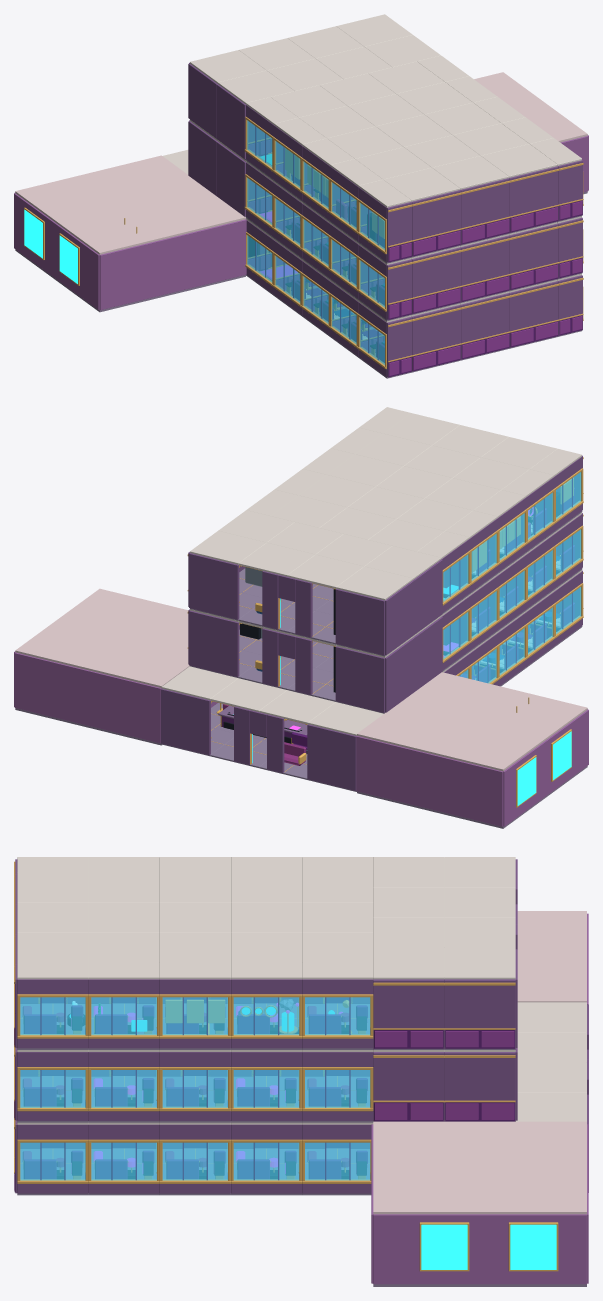
Rendered from grand_disaster_polished_hotel.glb.
3 views of the same model, one above another, from view 1: azimuth 30°, elevation 25°; view 2: azimuth 150°, elevation 25°; view 3: azimuth 270°, elevation 25° (orthographic). The views are drawn at different scales.
Visible parts, largest first — view 1: STATIC_FLOOR_3_MAT_WarmIvory, PUBLIC_WING_ARCHITECTURE_STATIC, STATIC_FLOOR_3_MAT_Wall_Plum, STATIC_FLOOR_2_MAT_Wall_Plum, STATIC_FLOOR_1_MAT_Wall_Plum, STATIC_FLOOR_3_MAT_WarmGold, STATIC_FLOOR_2_MAT_NeonWindowGlass, STATIC_FLOOR_1_MAT_NeonWindowGlass, STATIC_FLOOR_3_MAT_NeonWindowGlass, STATIC_FLOOR_1_MAT_Plum_Lacquer, STATIC_FLOOR_2_MAT_Plum_Lacquer, STATIC_FLOOR_2_MAT_WarmGold (+9 smaller); view 2: PUBLIC_WING_ARCHITECTURE_STATIC, STATIC_FLOOR_3_MAT_WarmIvory, STATIC_FLOOR_3_MAT_Wall_Plum, STATIC_FLOOR_2_MAT_Wall_Plum, STATIC_FLOOR_1_MAT_Wall_Plum, STATIC_FLOOR_2_MAT_WarmIvory, STATIC_FLOOR_3_MAT_NeonWindowGlass, STATIC_FLOOR_2_MAT_NeonWindowGlass, STATIC_FLOOR_3_MAT_PolishedPurpleStone, STATIC_FLOOR_2_MAT_PolishedPurpleStone, STATIC_FLOOR_1_MAT_NeonWindowGlass, STATIC_FLOOR_3_MAT_WarmGold (+4 smaller); view 3: STATIC_FLOOR_3_MAT_WarmIvory, PUBLIC_WING_ARCHITECTURE_STATIC, STATIC_FLOOR_3_MAT_Wall_Plum, STATIC_FLOOR_2_MAT_Wall_Plum, STATIC_FLOOR_1_MAT_NeonWindowGlass, STATIC_FLOOR_2_MAT_NeonWindowGlass, STATIC_FLOOR_3_MAT_NeonWindowGlass, STATIC_FLOOR_2_MAT_WarmIvory, STATIC_FLOOR_3_MAT_WarmGold, STATIC_FLOOR_1_MAT_Wall_Plum, STATIC_FLOOR_2_MAT_WarmGold, STATIC_FLOOR_1_MAT_PolishedPurpleStone (+24 smaller).
Part boxes in pixels (x1=…): STATIC_FLOOR_3_MAT_WarmIvory: x1=190, y1=14, x2=581, y2=264; PUBLIC_WING_ARCHITECTURE_STATIC: x1=14, y1=72, x2=588, y2=312; STATIC_FLOOR_3_MAT_Wall_Plum: x1=188, y1=62, x2=582, y2=276; STATIC_FLOOR_2_MAT_Wall_Plum: x1=188, y1=120, x2=582, y2=334; STATIC_FLOOR_1_MAT_Wall_Plum: x1=246, y1=254, x2=582, y2=377; STATIC_FLOOR_3_MAT_WarmGold: x1=244, y1=116, x2=583, y2=278; STATIC_FLOOR_2_MAT_NeonWindowGlass: x1=247, y1=178, x2=384, y2=307; STATIC_FLOOR_1_MAT_NeonWindowGlass: x1=247, y1=235, x2=384, y2=364; STATIC_FLOOR_3_MAT_NeonWindowGlass: x1=247, y1=120, x2=384, y2=250; STATIC_FLOOR_1_MAT_Plum_Lacquer: x1=248, y1=255, x2=582, y2=375; STATIC_FLOOR_2_MAT_Plum_Lacquer: x1=248, y1=197, x2=582, y2=318; STATIC_FLOOR_2_MAT_WarmGold: x1=244, y1=174, x2=583, y2=336; PUBLIC_WING_ARCHITECTURE_STATIC: x1=14, y1=588, x2=588, y2=828; STATIC_FLOOR_3_MAT_WarmIvory: x1=190, y1=407, x2=581, y2=657; STATIC_FLOOR_3_MAT_Wall_Plum: x1=188, y1=455, x2=582, y2=659; STATIC_FLOOR_2_MAT_Wall_Plum: x1=188, y1=513, x2=582, y2=737; STATIC_FLOOR_1_MAT_Wall_Plum: x1=161, y1=570, x2=582, y2=790; STATIC_FLOOR_2_MAT_WarmIvory: x1=161, y1=570, x2=581, y2=735; STATIC_FLOOR_3_MAT_NeonWindowGlass: x1=443, y1=472, x2=580, y2=601; STATIC_FLOOR_2_MAT_NeonWindowGlass: x1=443, y1=529, x2=580, y2=659; STATIC_FLOOR_3_MAT_PolishedPurpleStone: x1=190, y1=511, x2=582, y2=656; STATIC_FLOOR_2_MAT_PolishedPurpleStone: x1=190, y1=568, x2=582, y2=713; STATIC_FLOOR_1_MAT_NeonWindowGlass: x1=459, y1=587, x2=580, y2=683; STATIC_FLOOR_3_MAT_WarmGold: x1=187, y1=457, x2=583, y2=646; STATIC_FLOOR_3_MAT_WarmIvory: x1=17, y1=857, x2=515, y2=1051; PUBLIC_WING_ARCHITECTURE_STATIC: x1=371, y1=911, x2=588, y2=1286; STATIC_FLOOR_3_MAT_Wall_Plum: x1=15, y1=859, x2=517, y2=1066; STATIC_FLOOR_2_MAT_Wall_Plum: x1=15, y1=1048, x2=588, y2=1139; STATIC_FLOOR_1_MAT_NeonWindowGlass: x1=20, y1=1142, x2=370, y2=1180; STATIC_FLOOR_2_MAT_NeonWindowGlass: x1=20, y1=1070, x2=370, y2=1107; STATIC_FLOOR_3_MAT_NeonWindowGlass: x1=20, y1=997, x2=370, y2=1034; STATIC_FLOOR_2_MAT_WarmIvory: x1=17, y1=1002, x2=586, y2=1124; STATIC_FLOOR_3_MAT_WarmGold: x1=14, y1=861, x2=515, y2=1069; STATIC_FLOOR_1_MAT_Wall_Plum: x1=15, y1=1004, x2=588, y2=1193; STATIC_FLOOR_2_MAT_WarmGold: x1=14, y1=1056, x2=515, y2=1142; STATIC_FLOOR_1_MAT_PolishedPurpleStone: x1=17, y1=1148, x2=371, y2=1195.
Bounding box in the file's own units: 40.48 × 13.6 × 32.31.
